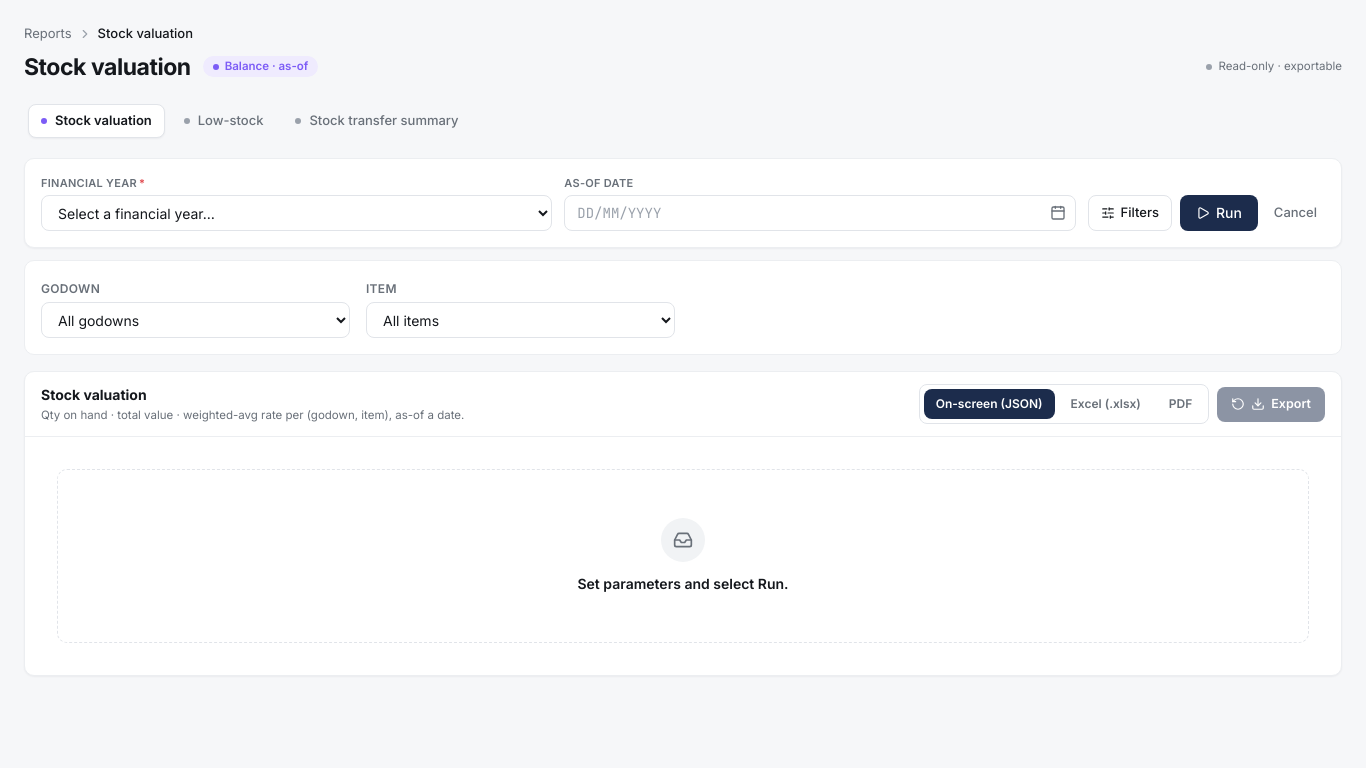
Test case: Inventory reports — 3-report switcher (FR-RPT-021/022/023, spec §3, §9) › switches endpoints + columns and preserves shared godown/item filters across tabs
Type "30/06/2026" into the field at [820, 213], box [564,195,1076,231]
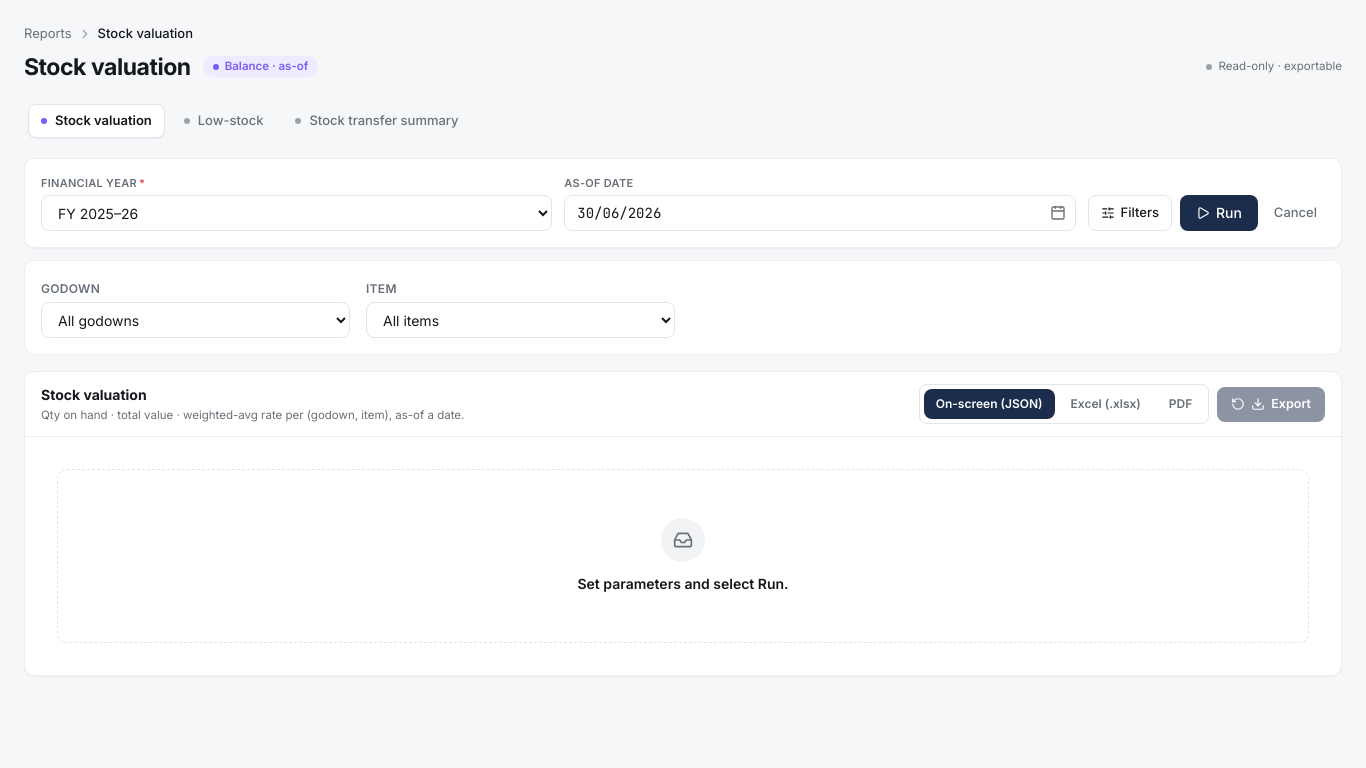
Click the button with test id "report-run" at [1219, 213], box [1180,195,1258,231]
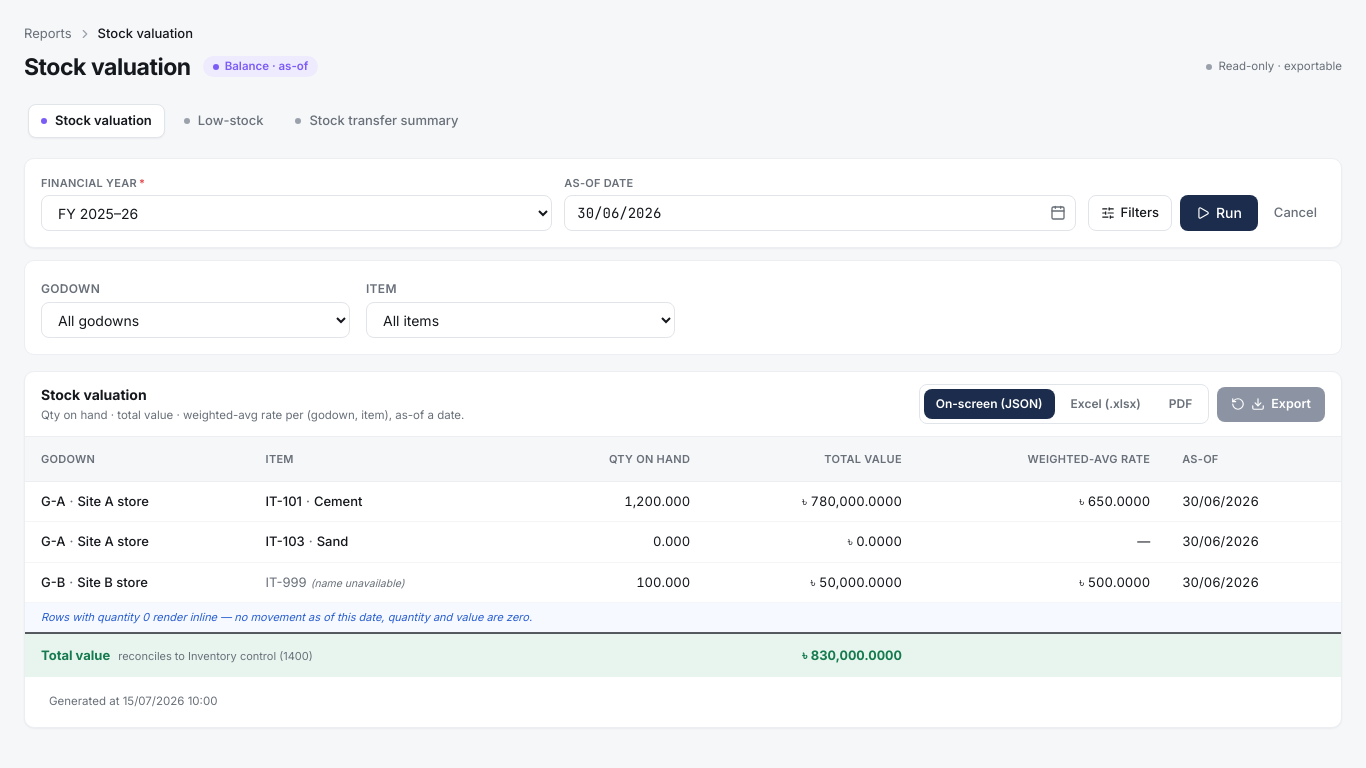
Now the element with test id "iv-sv-table" is shown, box [25,437,1341,727]
Select "G-Site-A · Site A store" in the dropdown with test id "iv-filter-godown" at [196, 320], box [41,302,350,338]
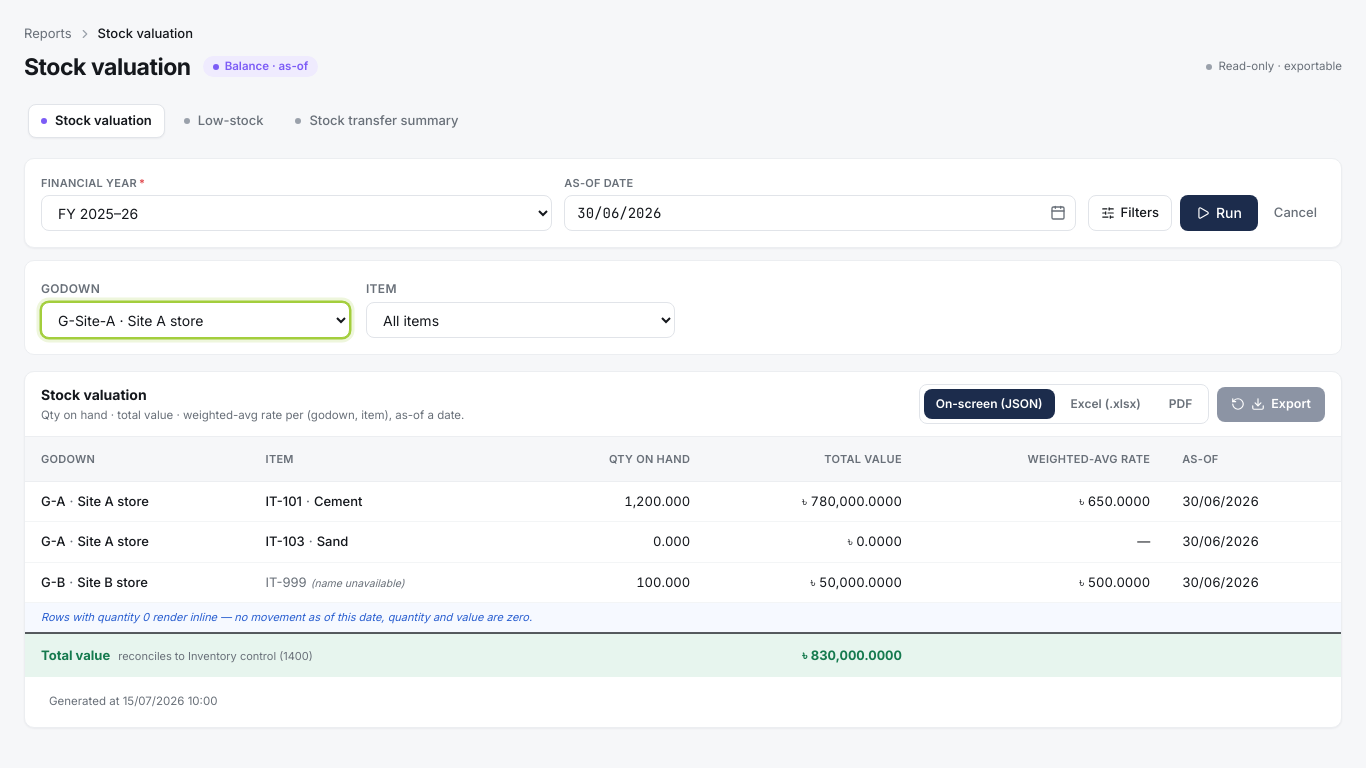
Click the tab with test id "iv-tab-LOW_STOCK" at [224, 121], box [171,104,276,138]
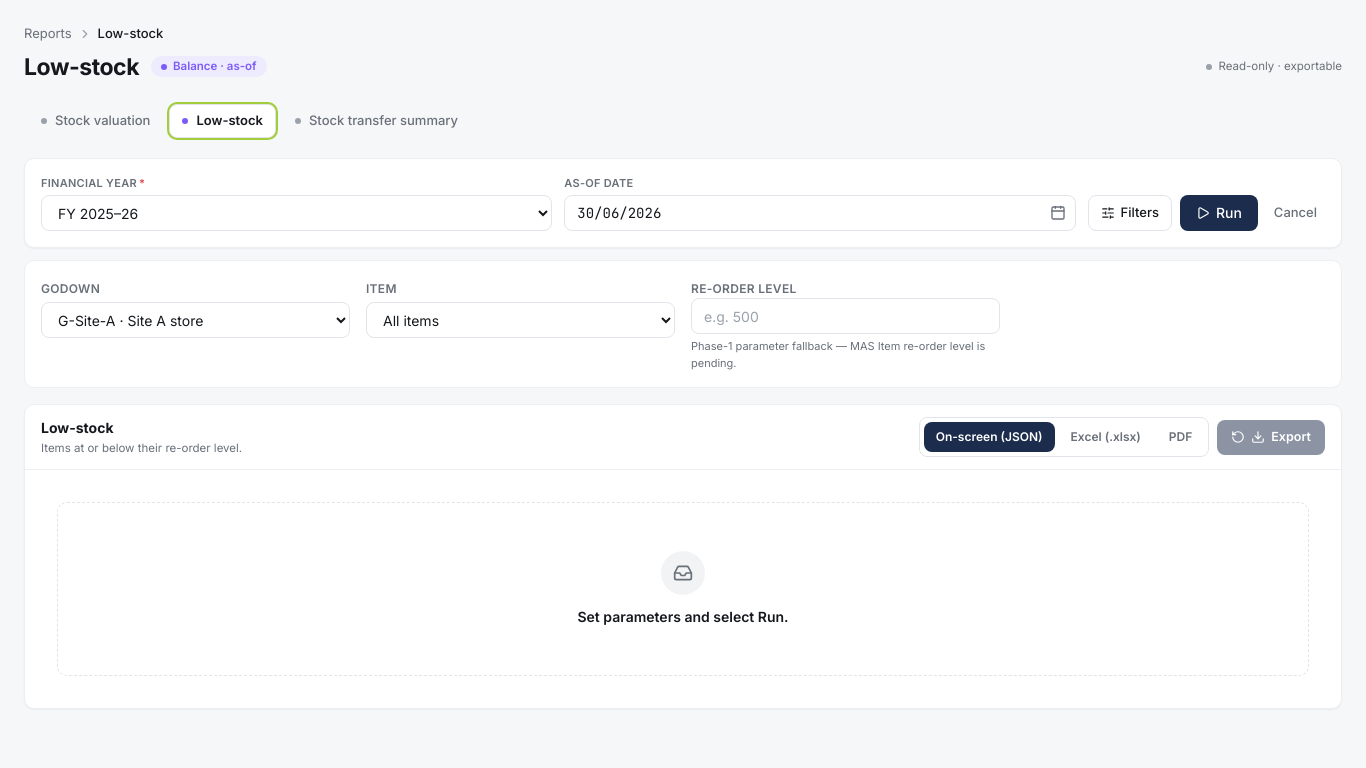
Now the field with test id "iv-filter-reorder" is shown, box [691,298,1000,334]
